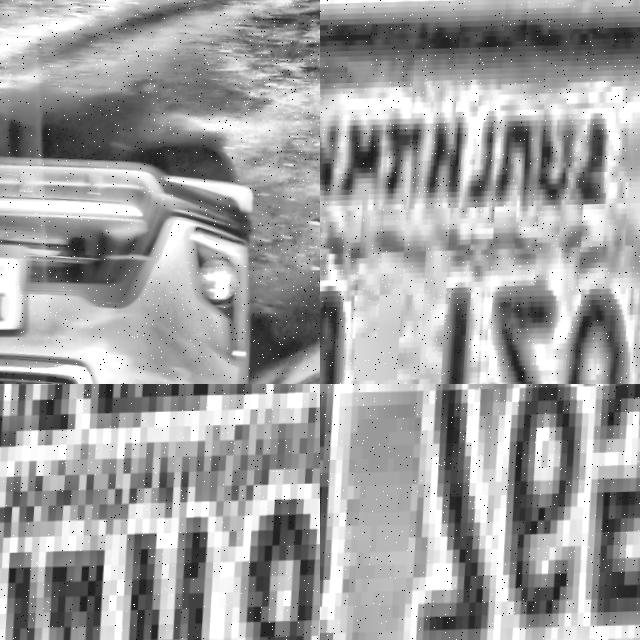license-plate: (320, 15, 640, 384), (0, 384, 320, 640), (320, 384, 640, 640), (0, 233, 41, 339)
